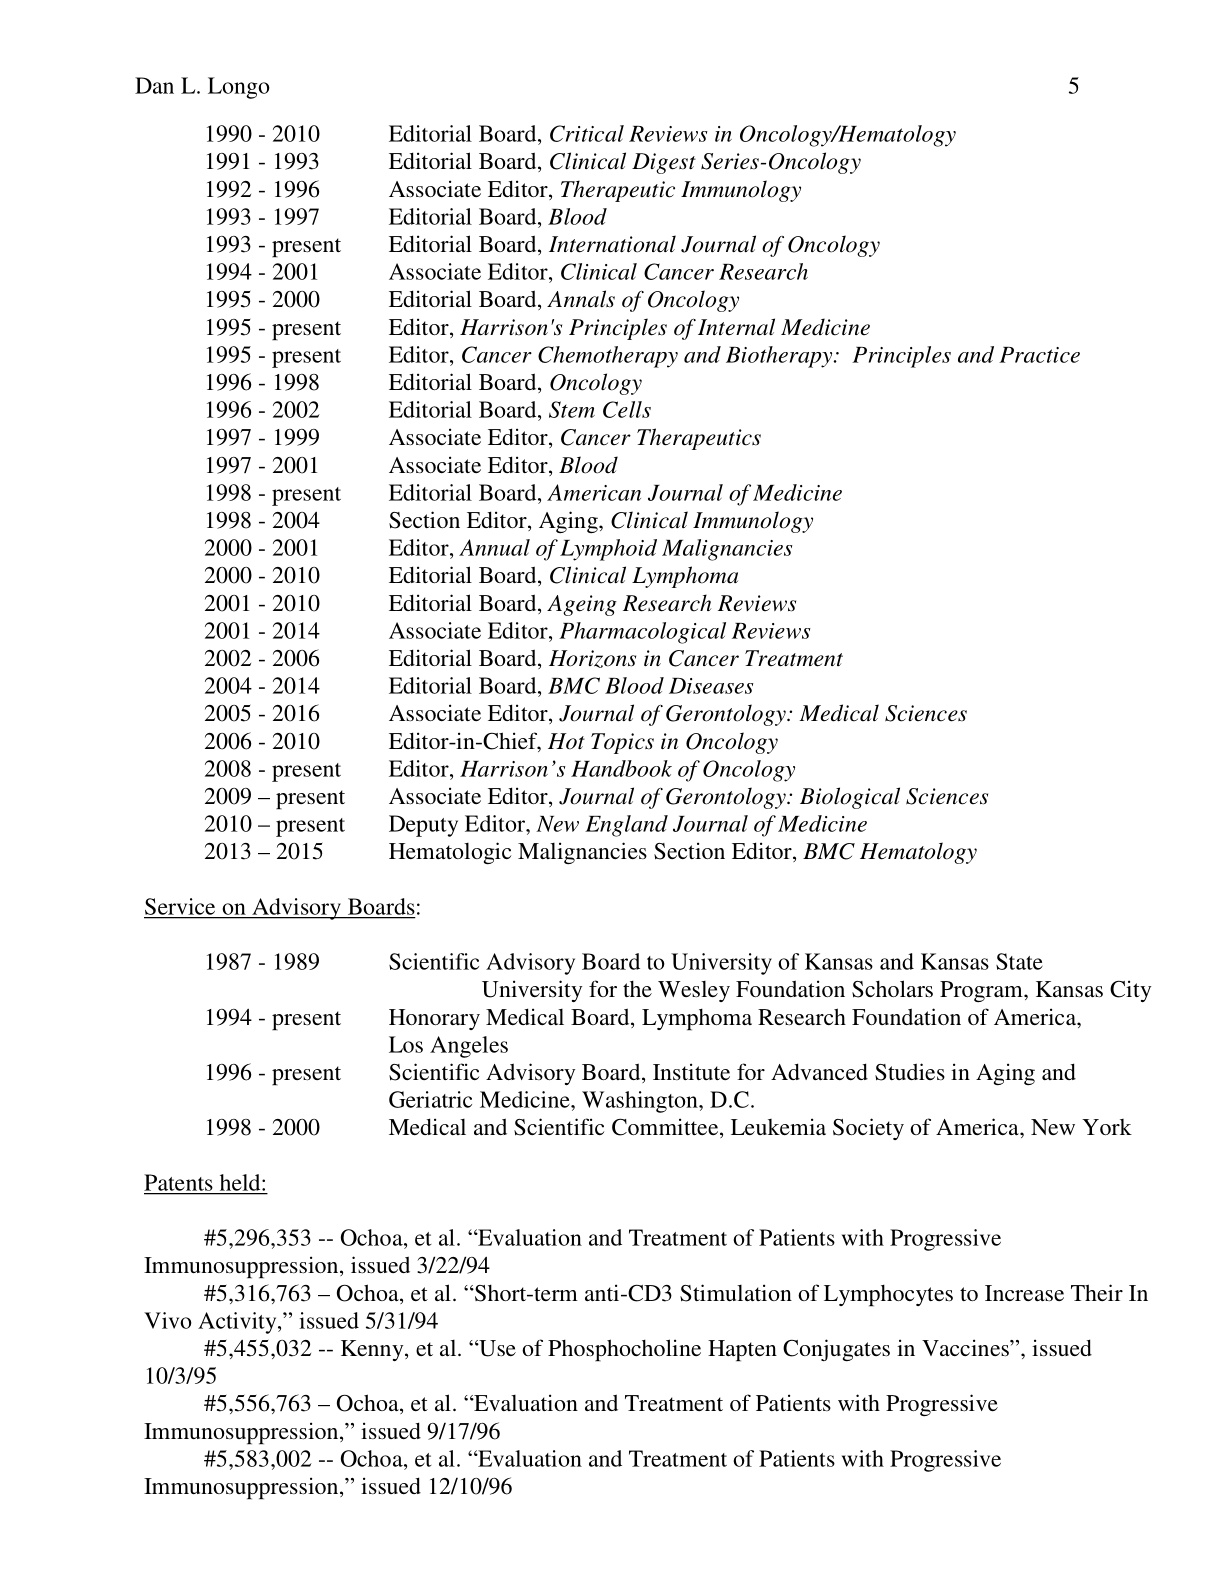nolines: (201, 121, 1083, 868), (203, 949, 1153, 1140)
